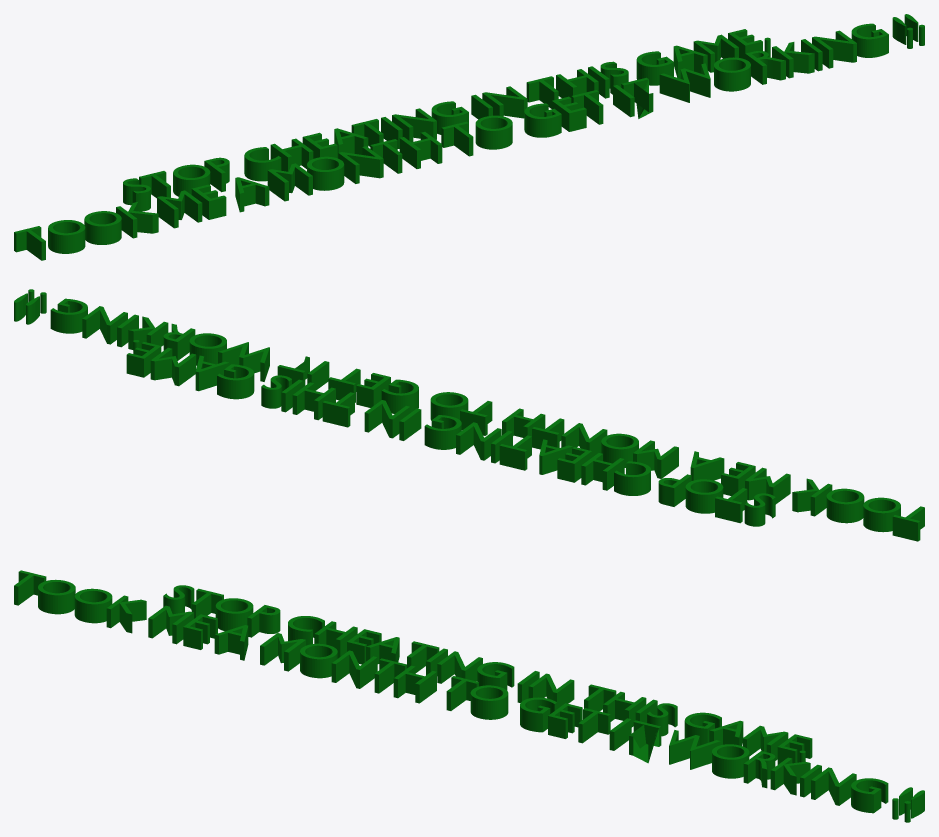
File: StopCheating.fbx
The picture shows the model from 3 angles, top to bottom: view 1: azimuth 30°, elevation 25°; view 2: azimuth 150°, elevation 25°; view 3: azimuth 330°, elevation 25°; orthographic projection.
Visible parts, largest first — view 1: Text; view 2: Text; view 3: Text.
Part boxes in pixels (<box>): Text: <box>14,14,924,260</box>; Text: <box>14,289,924,541</box>; Text: <box>14,570,924,822</box>.
Size of the model in its own units: 2349 by 94 by 196.
